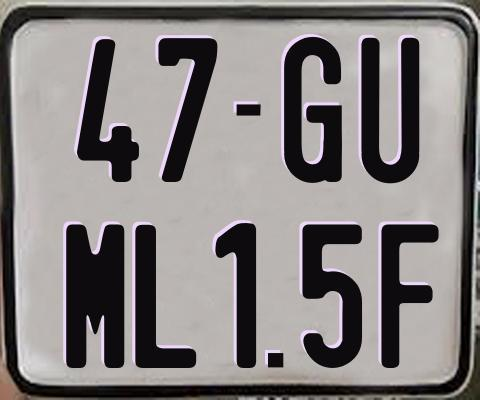1: (214, 220, 260, 365)
4: (74, 38, 142, 186)
5: (299, 221, 363, 370)
7: (157, 36, 223, 180)
F: (379, 222, 439, 366)
G: (283, 34, 344, 180)
L: (135, 222, 196, 370)
M: (66, 222, 128, 370)
U: (360, 38, 419, 189)
